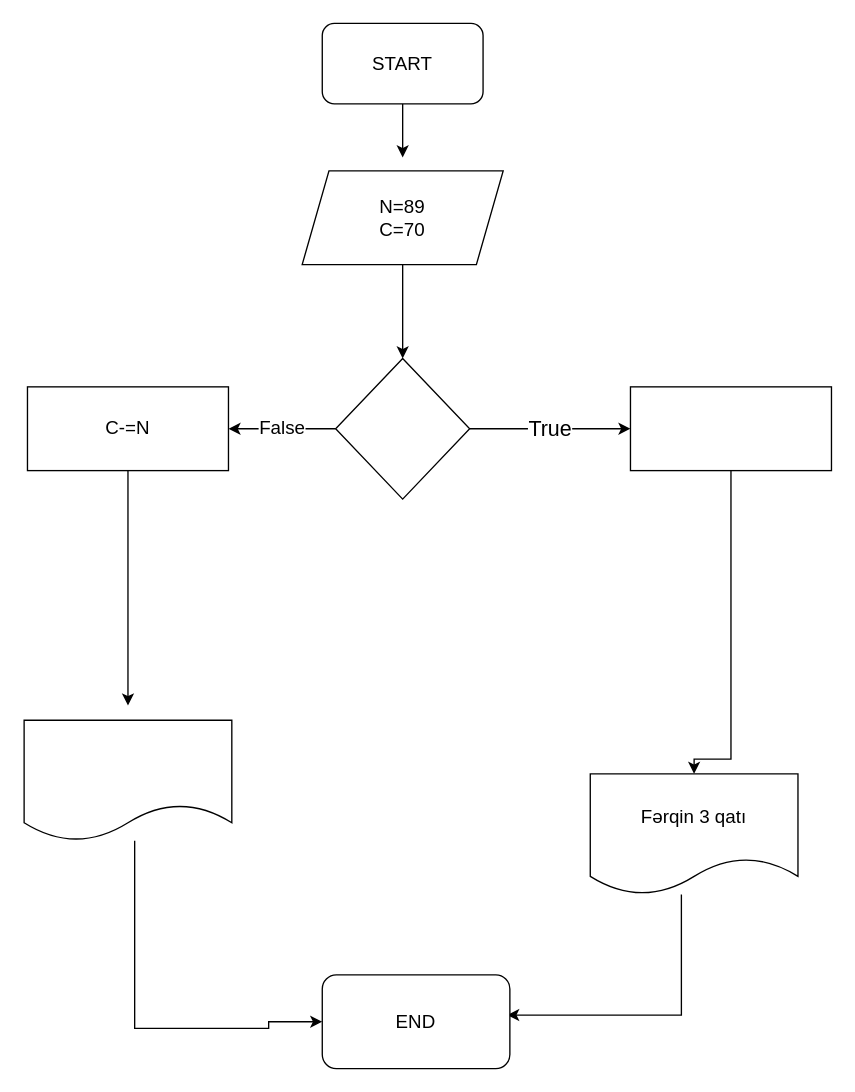
The diagram is 855 pixels wide and 1092 high, and some of its shapes have lost their labels. Each missing label, with the centre of its shape:
"Fərq" goes at (127,780).
"N -= C" goes at (730,428).
"N > C" goes at (402,428).
